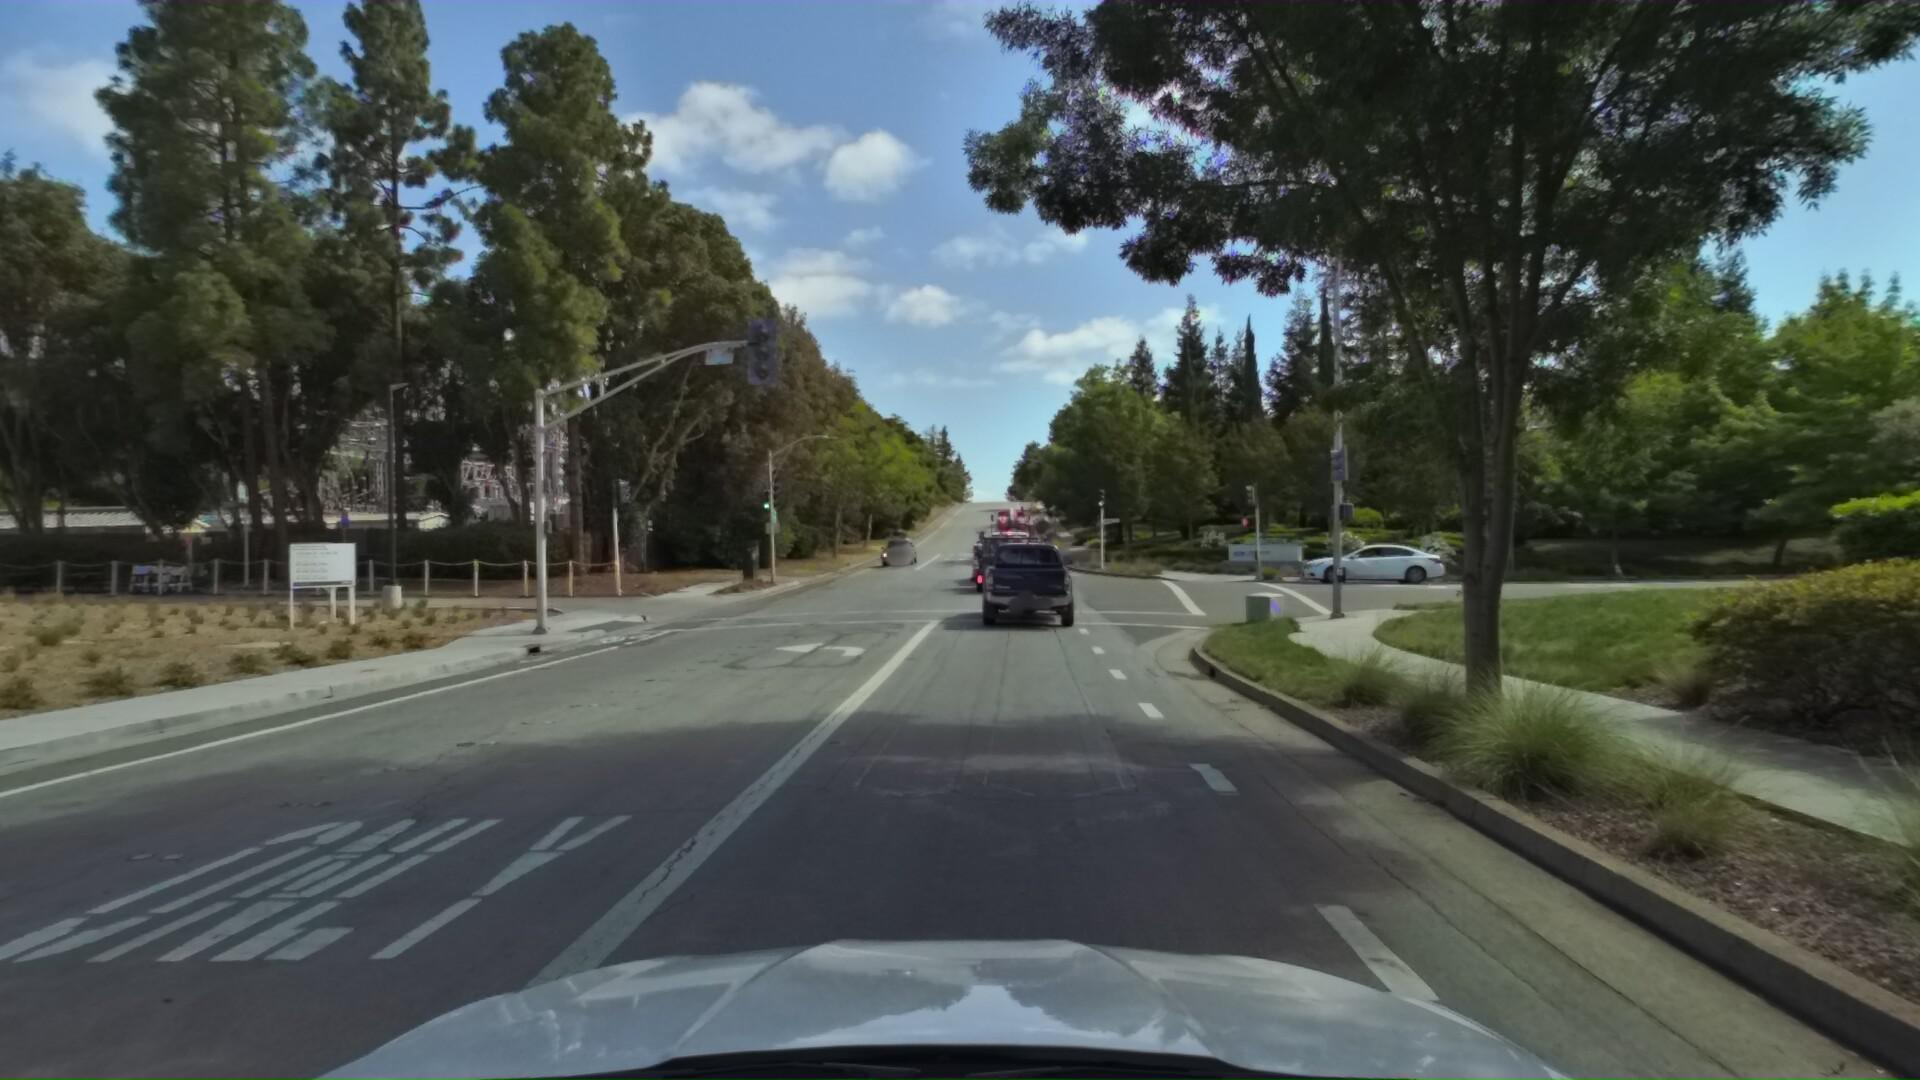car: (975, 527, 1077, 630), (964, 505, 1047, 596), (1294, 535, 1440, 583), (872, 530, 915, 564)
other_vehicle: (988, 501, 1026, 539)
truck: (980, 485, 1035, 560)
